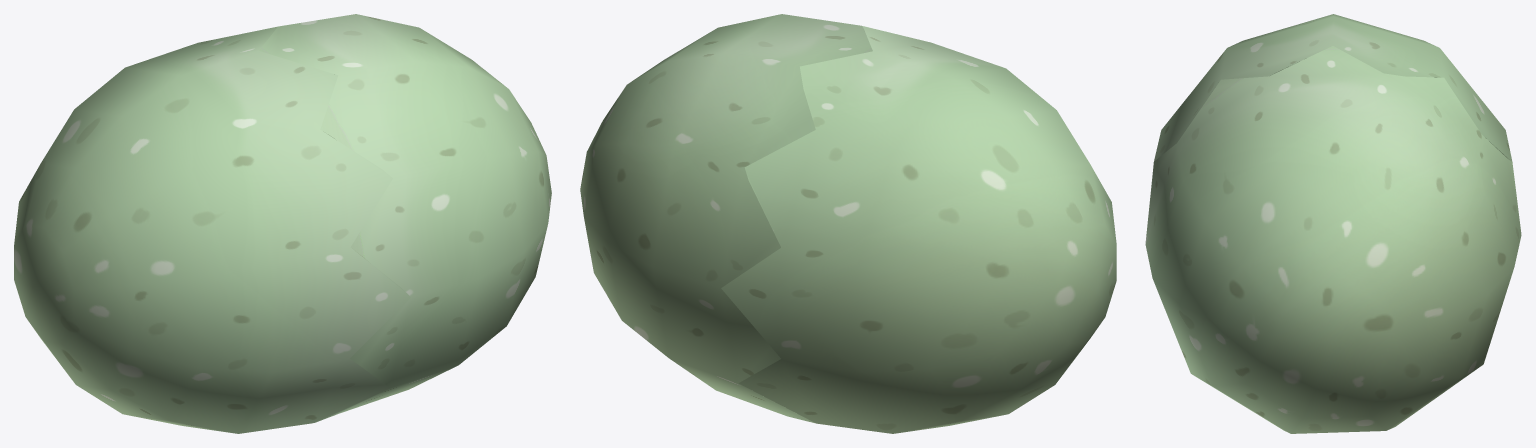
The model's file is dinoegggreen.fbx.
The picture shows the model from 3 angles, left to right: view 1: azimuth 30°, elevation 25°; view 2: azimuth 150°, elevation 25°; view 3: azimuth 270°, elevation 25°; orthographic projection. The views are drawn at different scales.
Visible parts, largest first — view 1: pSphere26, pSphere27; view 2: pSphere26, pSphere27; view 3: pSphere27, pSphere26.
Boxes of the visible parts, bbox=[...] form: pSphere26: bbox=[14, 26, 410, 433]; pSphere27: bbox=[259, 14, 551, 422]; pSphere26: bbox=[721, 26, 1116, 433]; pSphere27: bbox=[580, 14, 872, 423]; pSphere27: bbox=[1145, 46, 1521, 433]; pSphere26: bbox=[1146, 14, 1512, 234].
Size of the model in its own units: 2.83 by 1.97 by 1.98.
Materials: 1 (1 with a texture image).
